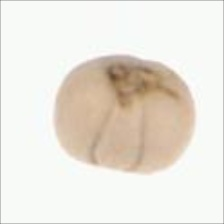L5: (89, 96, 149, 171), (103, 55, 183, 107)
L6: (52, 52, 197, 175)
